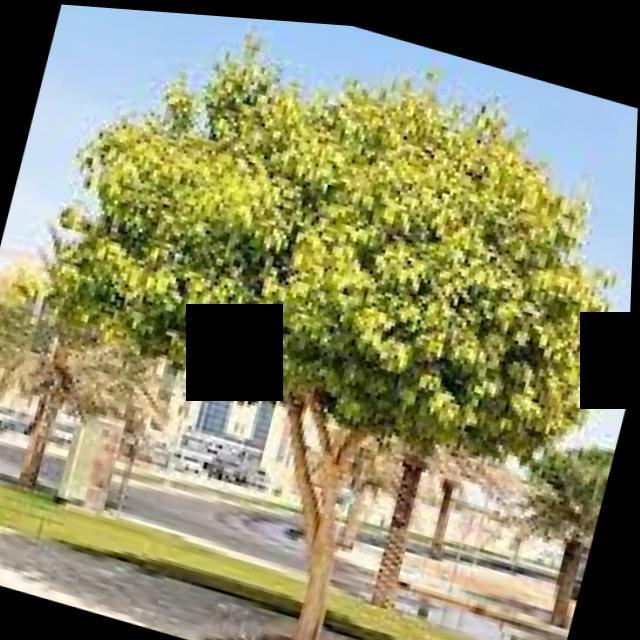tree: (0, 0, 640, 640), (0, 247, 181, 519), (512, 421, 618, 626)
